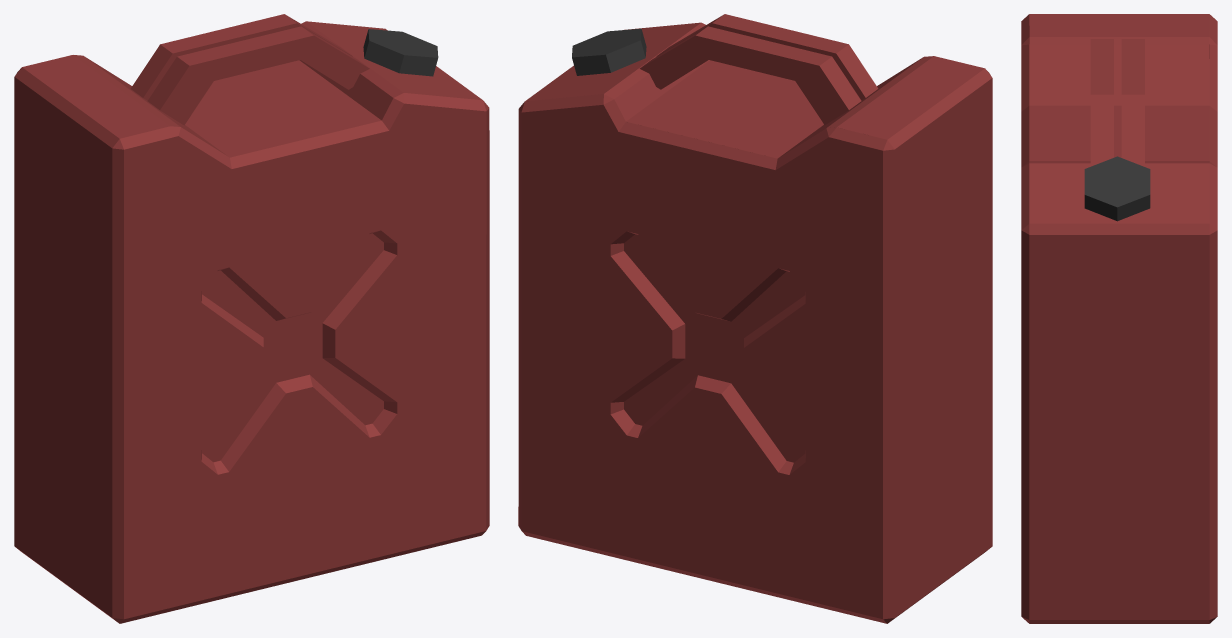
The model's file is model_fuel_can.fbx.
3 renders of one model, left to right at view 1: azimuth 30°, elevation 25°; view 2: azimuth 150°, elevation 25°; view 3: azimuth 270°, elevation 25°, orthographic. The views are drawn at different scales.
Parts seen in each view (by area): view 1: model_fuel_can; view 2: model_fuel_can; view 3: model_fuel_can.
Boxes of the visible parts, box(x1,y1,x2,y2) form: model_fuel_can: box(14, 14, 489, 623); model_fuel_can: box(518, 14, 992, 623); model_fuel_can: box(1021, 14, 1217, 623).
Bounding box in the file's own units: 78.2 × 101 × 38.22.
1 material, 1 textured.
